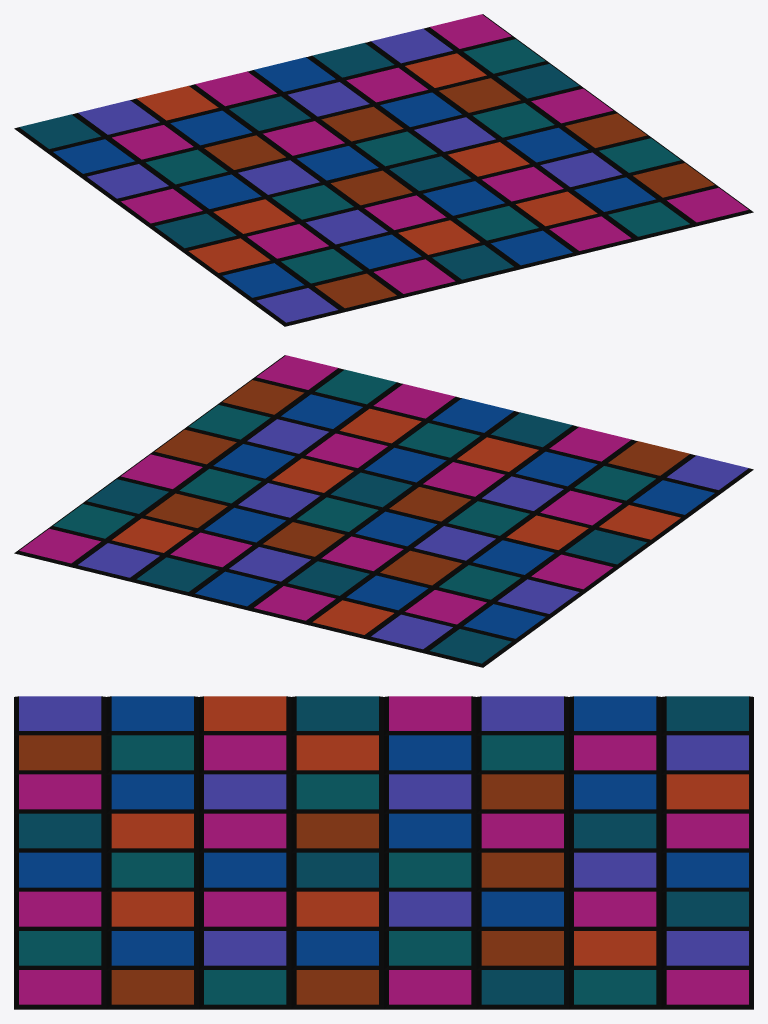
The model's file is discoFloor.glb.
3 renders of one model, top to bottom at view 1: azimuth 30°, elevation 25°; view 2: azimuth 150°, elevation 25°; view 3: azimuth 270°, elevation 25°, orthographic. The views are drawn at different scales.
Parts seen in each view (by area): view 1: Plane; view 2: Plane; view 3: Plane.
Boxes of the visible parts, x1,y1,x2,y2 form: Plane: (14,14,753,326); Plane: (14,355,753,667); Plane: (14,696,753,1009).
Bounding box in the file's own units: 6 × 0.0249 × 6.
1 material, 1 textured.
